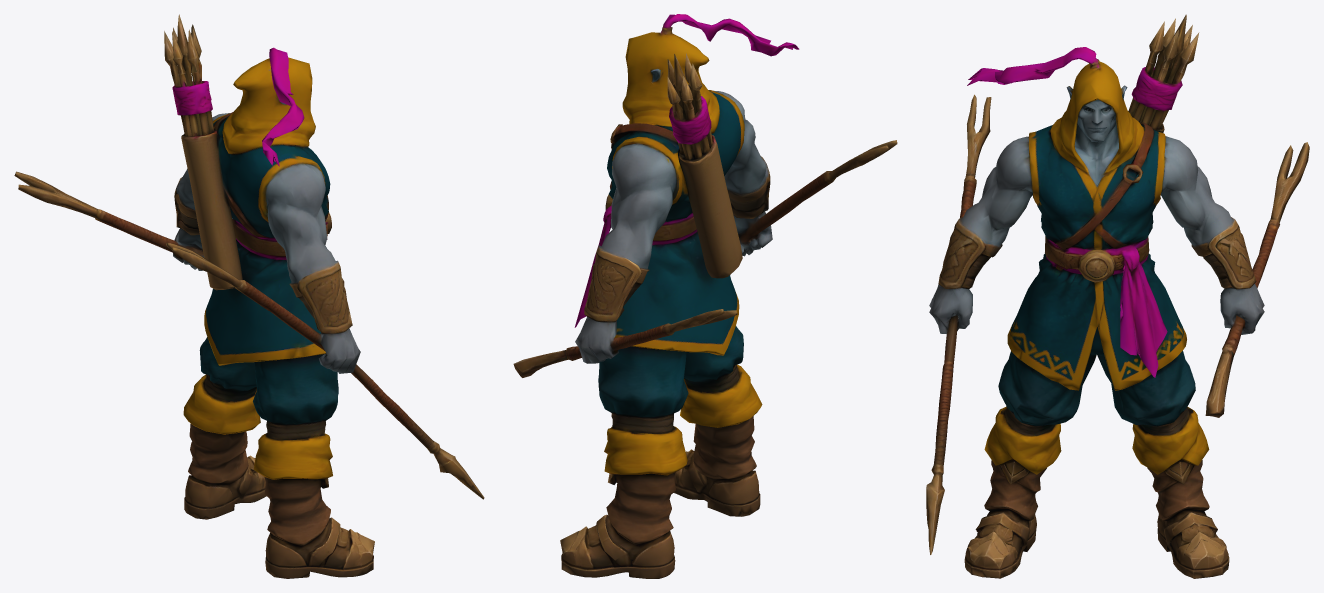
The model's file is model_tripo_h31.glb.
3 renders of one model, left to right at view 1: azimuth 30°, elevation 25°; view 2: azimuth 150°, elevation 25°; view 3: azimuth 270°, elevation 25°, orthographic. The views are drawn at different scales.
Visible parts, largest first — view 1: tripo_node_b7e5e3af-8f6c-4044-b9f5-79d43e7bc8a4; view 2: tripo_node_b7e5e3af-8f6c-4044-b9f5-79d43e7bc8a4; view 3: tripo_node_b7e5e3af-8f6c-4044-b9f5-79d43e7bc8a4.
Boxes of the visible parts, <box> form: tripo_node_b7e5e3af-8f6c-4044-b9f5-79d43e7bc8a4: <box>14,14,484,578</box>; tripo_node_b7e5e3af-8f6c-4044-b9f5-79d43e7bc8a4: <box>513,14,897,578</box>; tripo_node_b7e5e3af-8f6c-4044-b9f5-79d43e7bc8a4: <box>926,14,1309,578</box>.
Bounding box in the file's own units: 0.6093 × 1 × 0.674.
1 material, 1 textured.
